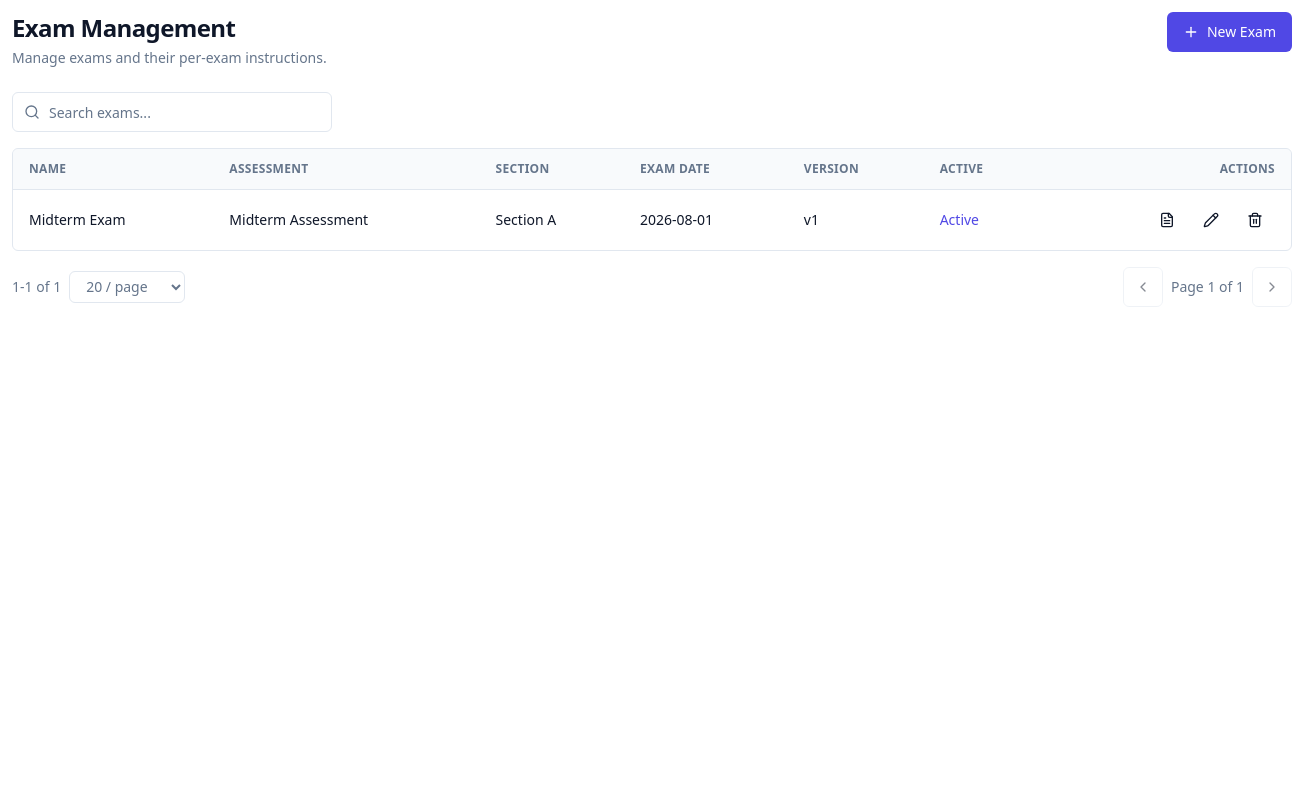
ExamManagementPage › returns to the exam list from the nested instructions panel
The width and height of the screenshot is (1304, 812).
Expected: the text "Midterm Exam" is shown, 13,189 -> 213,250
Click the button named "Manage instructions for Midterm Exam" at (1167, 220), box 1147,200 -> 1187,240
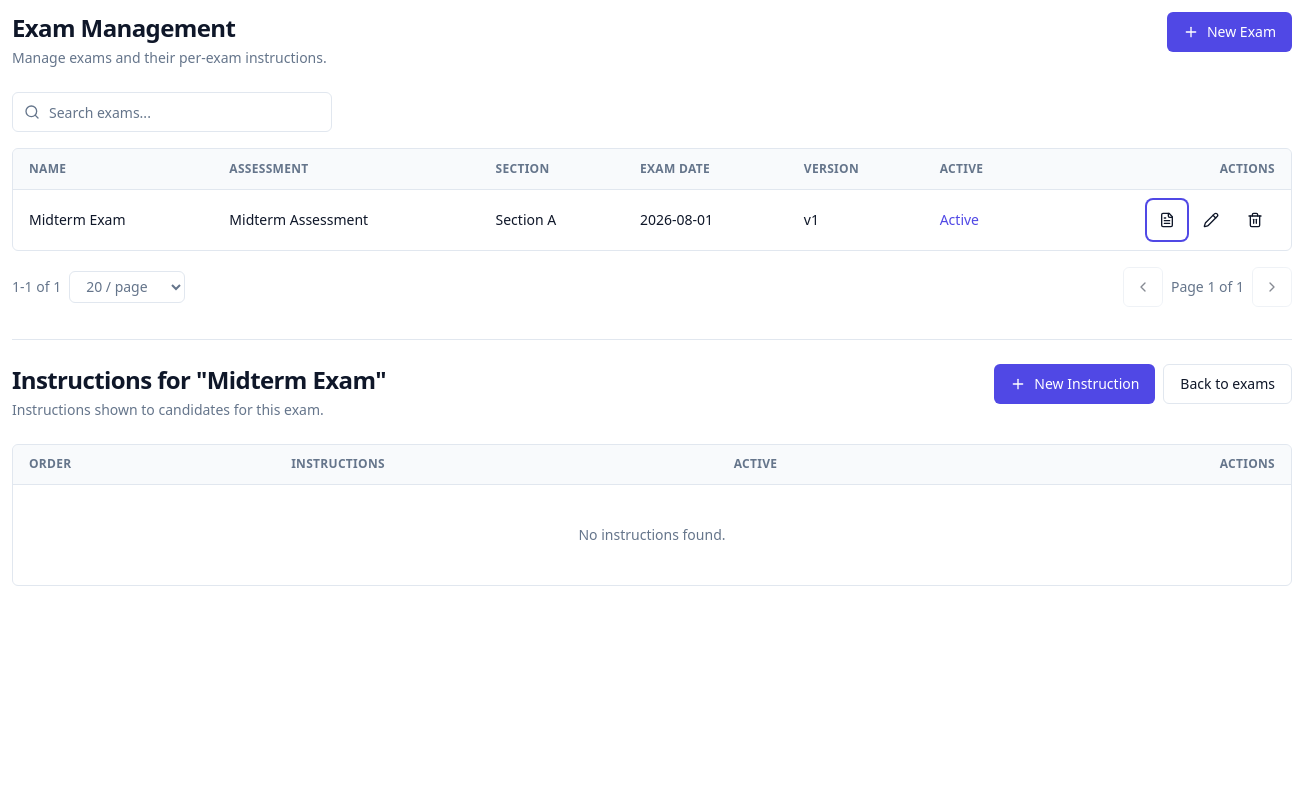
Now the heading "Instructions for \"Midterm Exam\"" is shown, box 12,364 -> 386,396
Click the button "Back to exams" at (1228, 384), box 1163,364 -> 1292,404
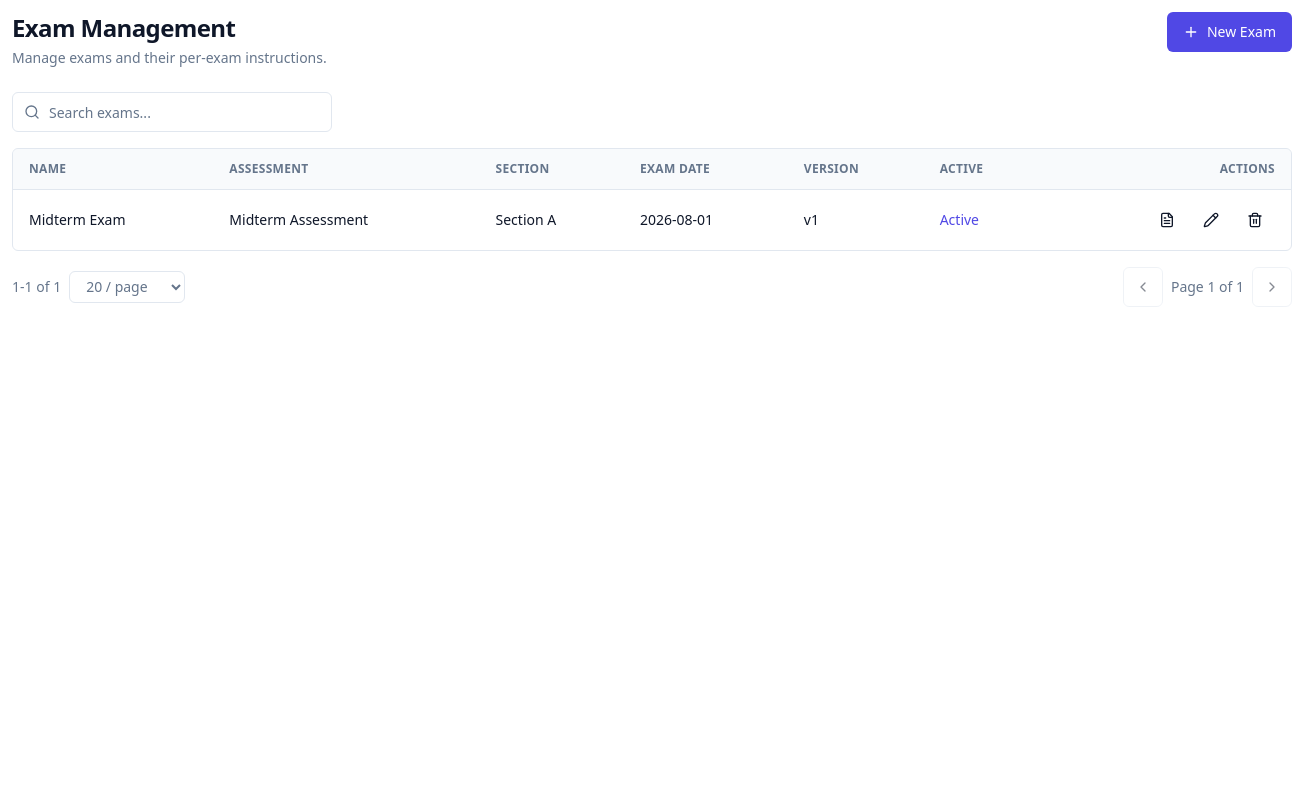
Now the heading "Instructions for \"Midterm Exam\"" is gone
